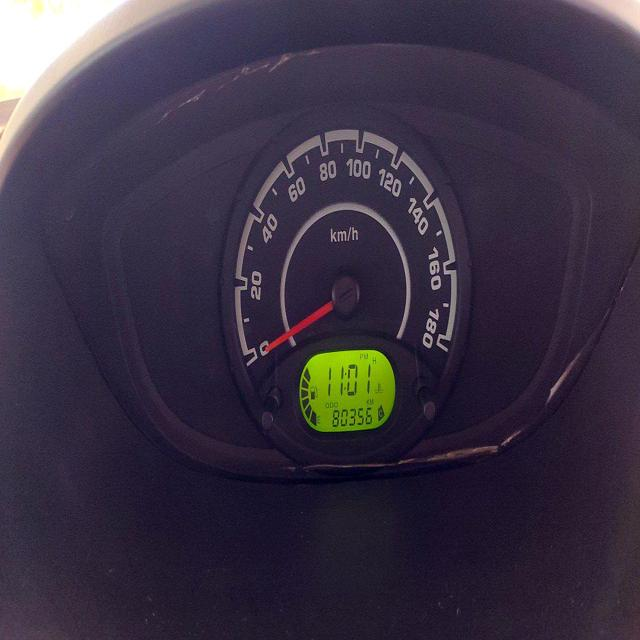odometer: (329, 406, 374, 430)
